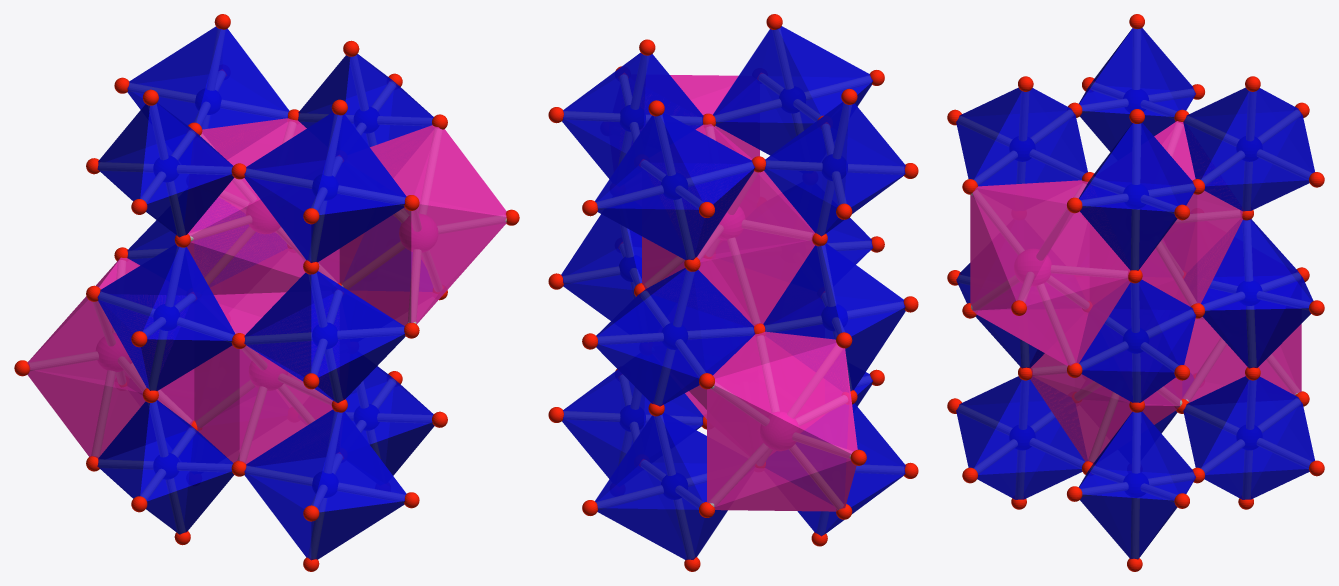
The model's file is structure.glb.
3 views of the same model, side by side, from view 1: azimuth 30°, elevation 25°; view 2: azimuth 150°, elevation 25°; view 3: azimuth 270°, elevation 25° (orthographic). The views are drawn at different scales.
Parts seen in each view (by area): view 1: Shape_IndexedFaceSet.101, Shape_IndexedFaceSet.133, Shape_IndexedFaceSet.097, Shape_IndexedFaceSet.050, Shape_IndexedFaceSet.109, Shape_IndexedFaceSet.042, Shape_IndexedFaceSet.034, Shape_IndexedFaceSet.074, Shape_IndexedFaceSet.082, Shape_IndexedFaceSet.066, Shape_IndexedFaceSet.111, Shape_IndexedFaceSet.010 (+81 smaller); view 2: Shape_IndexedFaceSet.112, Shape_IndexedFaceSet.107, Shape_IndexedFaceSet.057, Shape_IndexedFaceSet.073, Shape_IndexedFaceSet.089, Shape_IndexedFaceSet.065, Shape_IndexedFaceSet.120, Shape_IndexedFaceSet.116, Shape_IndexedFaceSet.122, Shape_IndexedFaceSet.033, Shape_IndexedFaceSet.017, Shape_IndexedFaceSet.009 (+96 smaller); view 3: Shape_IndexedFaceSet.097, Shape_IndexedFaceSet.076, Shape_IndexedFaceSet.084, Shape_IndexedFaceSet.092, Shape_IndexedFaceSet.068, Shape_IndexedFaceSet.100, Shape_IndexedFaceSet.059, Shape_IndexedFaceSet.004, Shape_IndexedFaceSet.116, Shape_IndexedFaceSet.102, Shape_IndexedFaceSet.019, Shape_IndexedFaceSet.027 (+85 smaller).
Part boxes in pixels (x1,y1,x2,y2): Shape_IndexedFaceSet.101: (411,204,506,324); Shape_IndexedFaceSet.133: (239,345,332,464); Shape_IndexedFaceSet.097: (339,207,411,325); Shape_IndexedFaceSet.050: (311,271,404,377); Shape_IndexedFaceSet.109: (27,300,146,393); Shape_IndexedFaceSet.042: (140,400,232,501); Shape_IndexedFaceSet.034: (140,103,233,203); Shape_IndexedFaceSet.074: (196,28,289,129); Shape_IndexedFaceSet.082: (313,411,406,512); Shape_IndexedFaceSet.066: (313,114,406,214); Shape_IndexedFaceSet.111: (27,370,145,458); Shape_IndexedFaceSet.010: (142,247,235,340); Shape_IndexedFaceSet.112: (707,385,851,507); Shape_IndexedFaceSet.107: (714,343,857,453); Shape_IndexedFaceSet.057: (597,269,705,378); Shape_IndexedFaceSet.073: (595,115,703,209); Shape_IndexedFaceSet.089: (595,415,703,509); Shape_IndexedFaceSet.065: (713,29,821,123); Shape_IndexedFaceSet.120: (697,171,814,262); Shape_IndexedFaceSet.116: (707,336,757,501); Shape_IndexedFaceSet.122: (698,240,814,326); Shape_IndexedFaceSet.033: (765,102,848,207); Shape_IndexedFaceSet.017: (563,52,646,153); Shape_IndexedFaceSet.009: (763,245,842,339); Shape_IndexedFaceSet.097: (971,181,1088,309); Shape_IndexedFaceSet.076: (1201,91,1312,186); Shape_IndexedFaceSet.084: (974,379,1084,474); Shape_IndexedFaceSet.092: (1201,379,1312,474); Shape_IndexedFaceSet.068: (974,91,1085,186); Shape_IndexedFaceSet.100: (972,188,1070,300); Shape_IndexedFaceSet.059: (1201,219,1311,310); Shape_IndexedFaceSet.004: (1079,282,1178,372); Shape_IndexedFaceSet.116: (1182,317,1301,402); Shape_IndexedFaceSet.102: (1023,211,1130,305); Shape_IndexedFaceSet.019: (1079,123,1178,211); Shape_IndexedFaceSet.027: (1079,412,1178,500).
Size of the model in its own units: 10.12 by 11.64 by 8.91.
